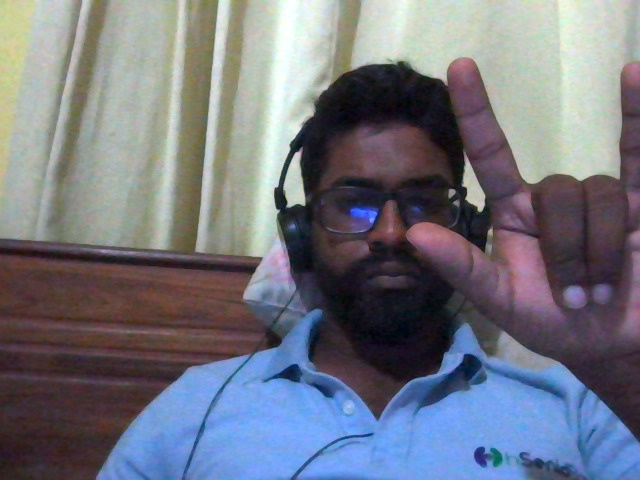I Love You: (352, 16, 640, 426)
